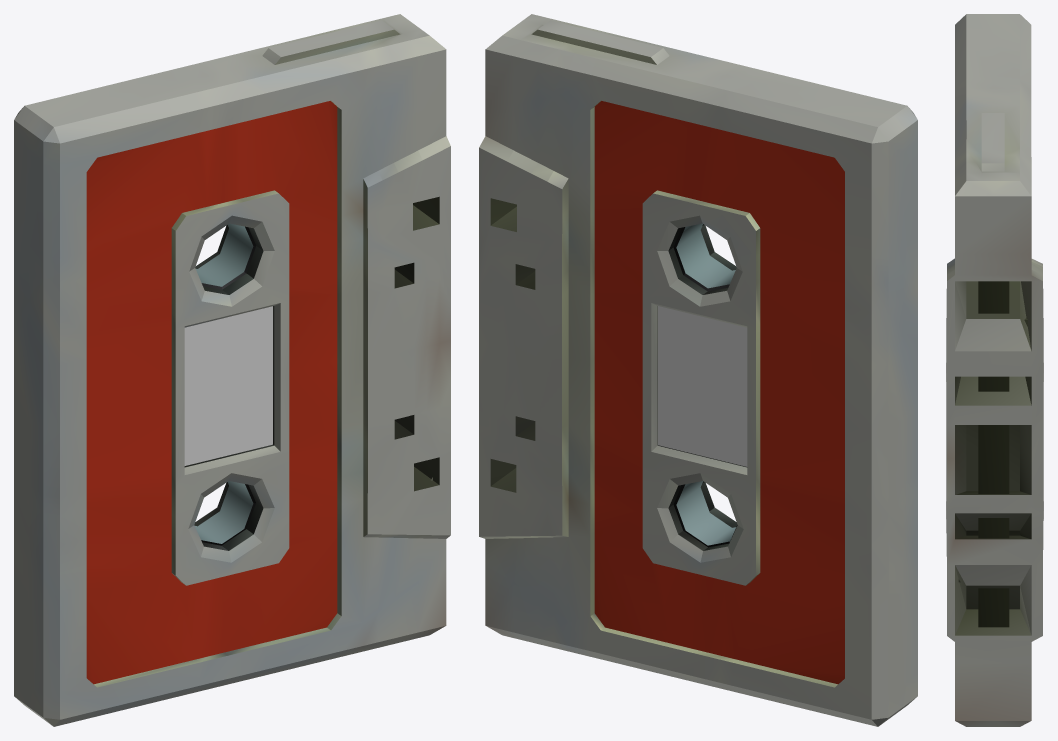
The model's file is cassette_tape.FBX.
3 renders of one model, left to right at view 1: azimuth 30°, elevation 25°; view 2: azimuth 150°, elevation 25°; view 3: azimuth 270°, elevation 25°, orthographic. The views are drawn at different scales.
Visible parts, largest first — view 1: cassette_body, clear plastic tape window_1, cassette_reel_1, cassette_reel_2; view 2: cassette_body, clear plastic tape window_2, cassette_reel_1, cassette_reel_2; view 3: cassette_body, cassette_tape.
Part boxes in pixels (<box>): cassette_body: <box>14,14,450,726</box>; clear plastic tape window_1: <box>184,306,272,465</box>; cassette_reel_1: <box>196,223,255,289</box>; cassette_reel_2: <box>195,481,255,545</box>; cassette_body: <box>479,14,917,726</box>; clear plastic tape window_2: <box>658,306,747,466</box>; cassette_reel_1: <box>673,223,735,291</box>; cassette_reel_2: <box>673,481,737,547</box>; cassette_body: <box>946,14,1043,726</box>; cassette_tape: <box>978,281,1009,627</box>.
Size of the model in its own units: 0.0706 by 0.1042 by 0.0165.
